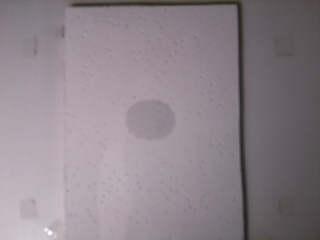Water_detected: (125, 100, 166, 140)
